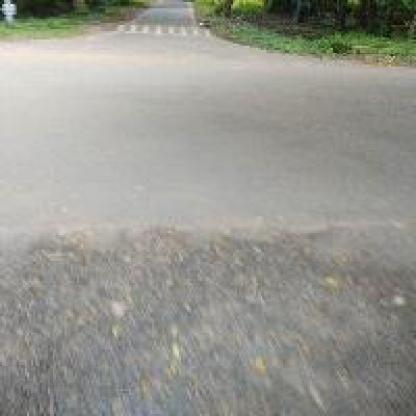Speed Bump: (116, 23, 206, 37)
